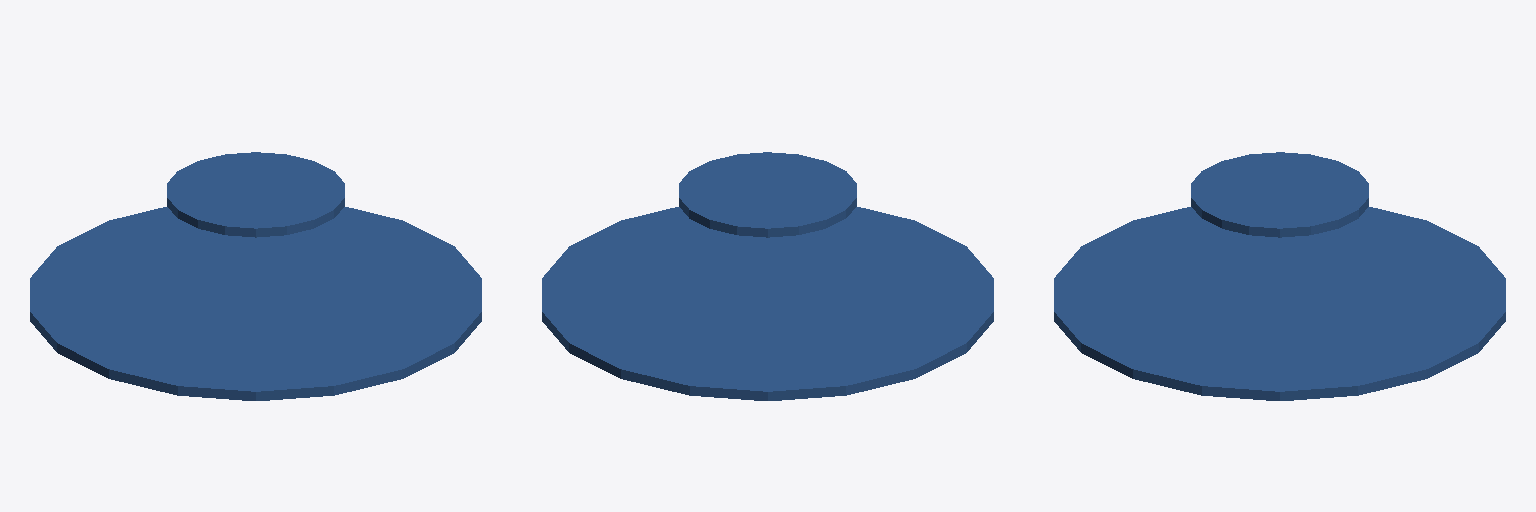
File: brokenFountain.obj
3 renders of one model, left to right at view 1: azimuth 30°, elevation 25°; view 2: azimuth 150°, elevation 25°; view 3: azimuth 270°, elevation 25°, orthographic.
Visible parts, largest first — view 1: Cylinder00.001, Cylinder01.002; view 2: Cylinder00.001, Cylinder01.002; view 3: Cylinder00.001, Cylinder01.002.
Part boxes in pixels (bbox=[...]): Cylinder00.001: bbox=[30, 207, 481, 400]; Cylinder01.002: bbox=[167, 152, 344, 237]; Cylinder00.001: bbox=[542, 207, 993, 400]; Cylinder01.002: bbox=[679, 152, 856, 237]; Cylinder00.001: bbox=[1054, 207, 1505, 400]; Cylinder01.002: bbox=[1191, 152, 1368, 237].
Bounding box in the file's own units: 74268 × 23430 × 73139.